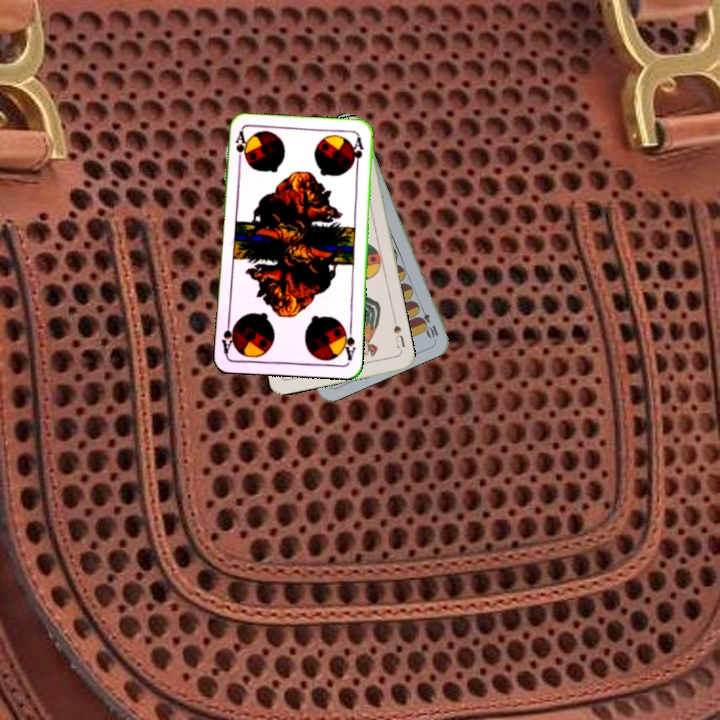E10: (415, 302, 441, 341)
SA: (338, 322, 358, 363), (231, 127, 248, 168)
SU: (389, 315, 408, 355)
